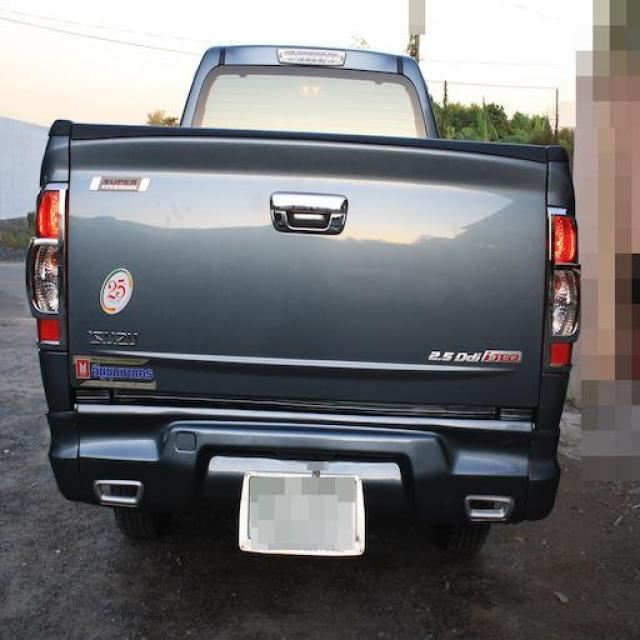back_bumper: (46, 400, 561, 525)
back_glass: (192, 63, 432, 138)
back_left_light: (26, 180, 68, 352)
back_right_light: (542, 204, 585, 374)
trunk: (67, 136, 550, 408)
